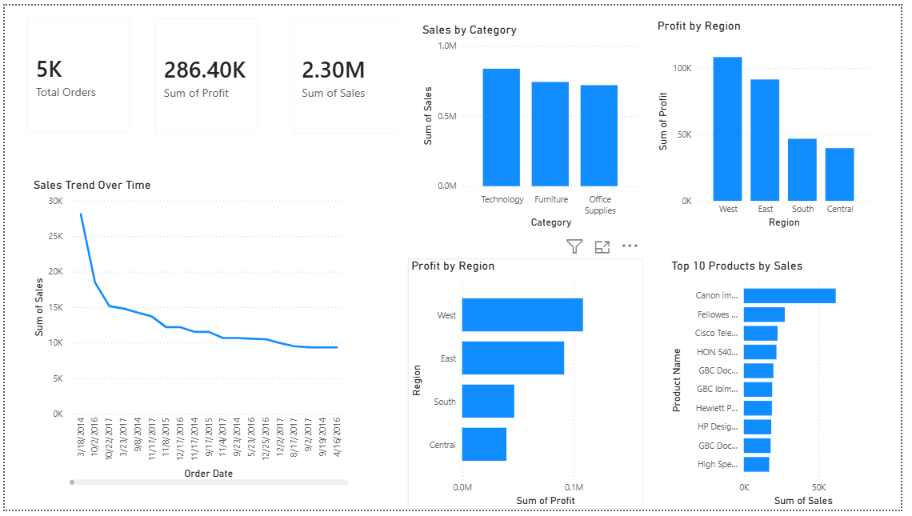

What the dashboard file says about the page in this screenshot:
{"tool":"powerbi","page":{"name":"Page 1","canvas":[1280,720],"ordinal":0},"visuals":[{"type":"cardVisual","fields":{"Data":["Sum(Sample - Superstore.Sales)"]},"box":[394.3,0,181.4,200],"z":0},{"type":"cardVisual","fields":{"Data":["Sum(Sample - Superstore.Profit)"]},"box":[197.1,1.4,181.4,198.6],"z":1},{"type":"cardVisual","fields":{"Data":["Sample - Superstore.Total Orders"]},"box":[14.3,0,182.9,198.6],"z":2},{"type":"lineChart","title":"Sales Trend Over Time","fields":{"Category":["Sample - Superstore.Order Date"],"Y":["Sum(Sample - Superstore.Sales)"]},"box":[35.7,245.7,460,444.3],"z":3},{"type":"clusteredBarChart","title":"Profit by Region","fields":{"Category":["Sample - Superstore.Region"],"Y":["Sum(Sample - Superstore.Profit)"]},"box":[575.7,361.4,335.7,358.6],"z":5},{"type":"barChart","title":"Top 10 Products by Sales","fields":{"Category":["Sample - Superstore.Product Name"],"Y":["Sum(Sample - Superstore.Sales)"]},"box":[947.1,361.4,294.3,358.6],"z":6},{"type":"clusteredColumnChart","title":"Sales by Category","fields":{"Category":["Sample - Superstore.Category"],"Y":["Sum(Sample - Superstore.Sales)"]},"box":[591.4,24.3,320,298.6],"z":7},{"type":"clusteredColumnChart","title":"Profit by Region","fields":{"Category":["Sample - Superstore.Region"],"Y":["Sum(Sample - Superstore.Profit)"]},"box":[927.1,18.6,314.3,304.3],"z":8}]}

Visuals, with their boxes in screenshot pixels (x1, y1, x2, y2), scaled from the page's 1280x720 canvas onto the 912x516 screenshot:
cardVisual - Sum(Sample - Superstore.Sales): (left=281, top=0, right=410, bottom=143)
cardVisual - Sum(Sample - Superstore.Profit): (left=140, top=1, right=270, bottom=143)
cardVisual - Sample - Superstore.Total Orders: (left=10, top=0, right=141, bottom=142)
"Sales Trend Over Time" lineChart: (left=25, top=176, right=353, bottom=494)
"Profit by Region" clusteredBarChart: (left=410, top=259, right=649, bottom=515)
"Top 10 Products by Sales" barChart: (left=675, top=259, right=884, bottom=515)
"Sales by Category" clusteredColumnChart: (left=421, top=17, right=649, bottom=231)
"Profit by Region" clusteredColumnChart: (left=661, top=13, right=884, bottom=231)
